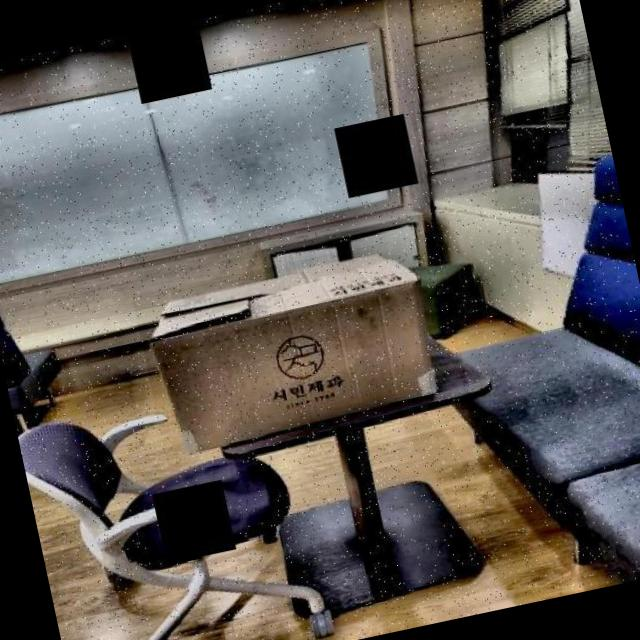box: (131, 231, 472, 472)
